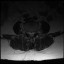CCS_normal: (30, 29, 32, 38)
LFS_normal: (34, 29, 36, 35)
LLS_normal: (32, 30, 34, 37)
RFS_normal: (26, 28, 28, 35)
RLS_normal: (28, 29, 30, 37)
